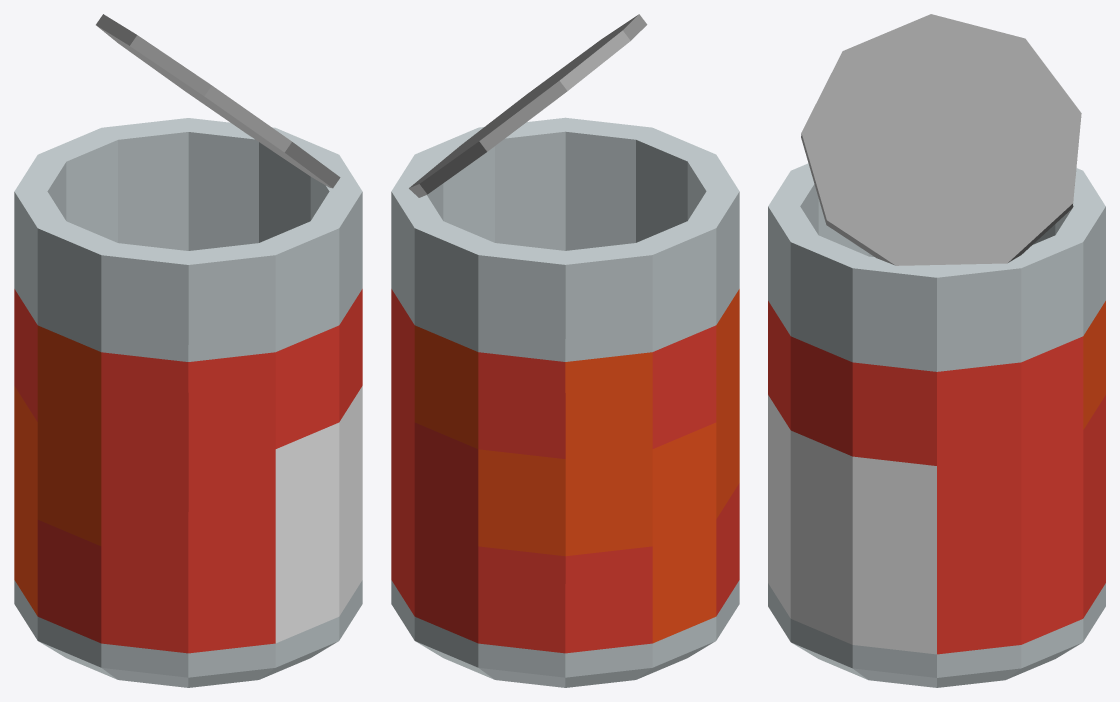
File: trashgroup352370893.fbx
3 renders of one model, left to right at view 1: azimuth 30°, elevation 25°; view 2: azimuth 150°, elevation 25°; view 3: azimuth 270°, elevation 25°, orthographic. The views are drawn at different scales.
Parts seen in each view (by area): view 1: group352370893; view 2: group352370893; view 3: group352370893.
Part boxes in pixels (box(x1,y1,x2,y2)): group352370893: box(14, 14, 362, 687); group352370893: box(391, 14, 739, 687); group352370893: box(768, 14, 1105, 687).
Bounding box in the file's own units: 15.89 × 30.66 × 15.89.
